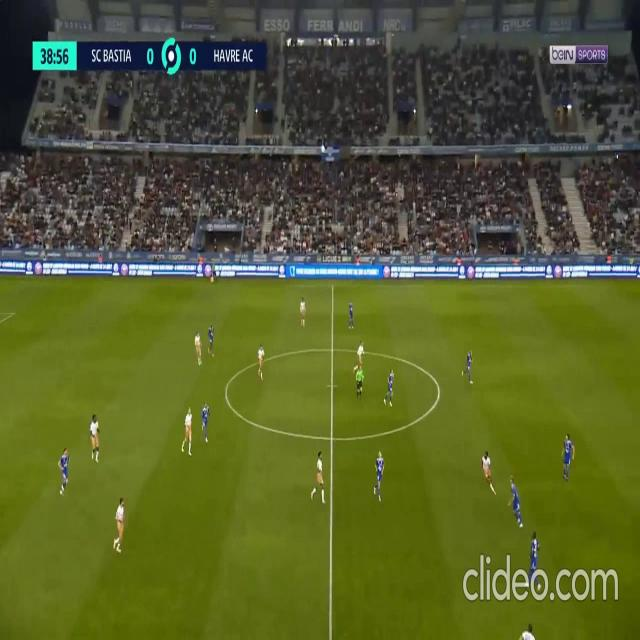player: (508, 475, 524, 528), (310, 451, 325, 502), (481, 451, 496, 497), (114, 497, 126, 554), (561, 432, 574, 482), (373, 450, 385, 501), (58, 445, 70, 495), (90, 413, 100, 462), (182, 408, 192, 454), (384, 368, 394, 406), (201, 401, 210, 443), (354, 363, 364, 400), (463, 349, 473, 383), (257, 344, 265, 380), (195, 331, 202, 366), (356, 340, 364, 369), (207, 322, 214, 355), (300, 297, 306, 325), (348, 300, 354, 328), (210, 259, 216, 285)
referee: (354, 363, 364, 398), (210, 258, 216, 284)
